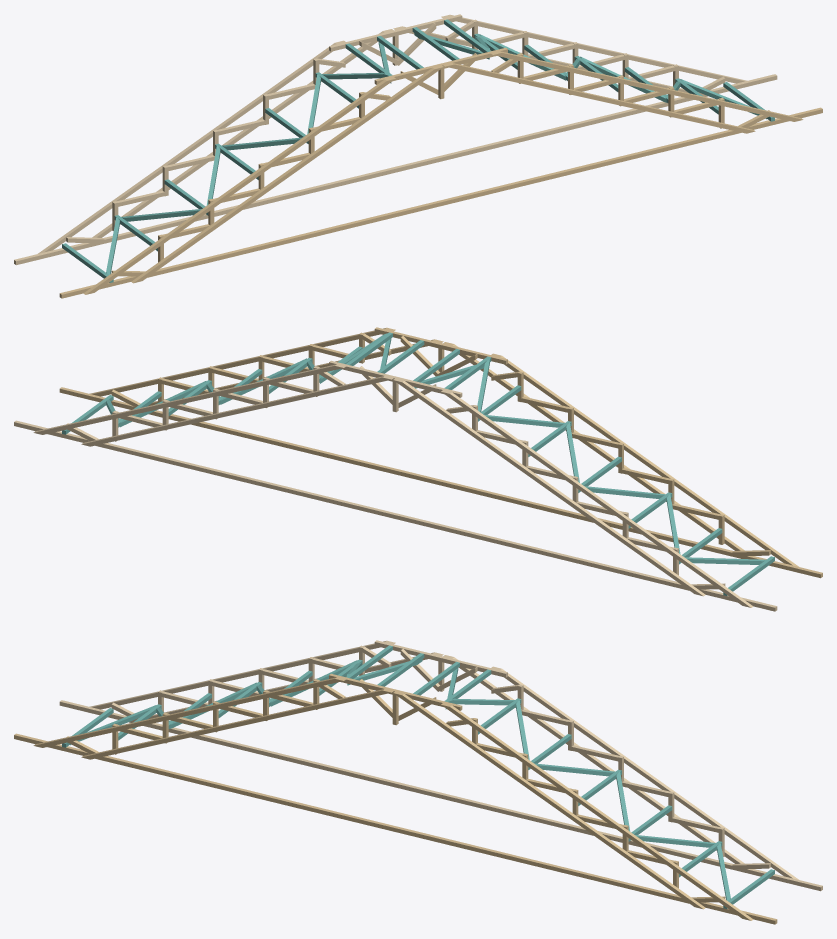
File: bridge-lattice-90mm-model.glb
3 views of the same model, one above another, from view 1: azimuth 30°, elevation 25°; view 2: azimuth 150°, elevation 25°; view 3: azimuth 330°, elevation 25° (orthographic).
Parts seen in each view (by area): view 1: N_A, P_A, N_CL1, N_CL2, P_CL1, N_CR1, N_CR2, P_CR1, P_CL2, P_B, N_B; view 2: P_A, N_A, P_CL1, P_CL2, N_CL1, P_CR1, P_CR2, N_CR1, N_CL2, N_B, P_B; view 3: N_A, P_A, N_CR1, N_CR2, P_CR1, N_CL1, N_CL2, P_CL1, P_CR2, P_B, N_B.
Boxes of the visible parts, x1,y1,x2,y2 form: N_A: [59, 107, 822, 298]; P_A: [14, 74, 777, 265]; N_CL1: [83, 77, 395, 294]; N_CL2: [131, 65, 443, 283]; P_CL1: [38, 40, 345, 253]; N_CR1: [491, 51, 803, 121]; N_CR2: [443, 63, 755, 133]; P_CR1: [441, 14, 747, 83]; P_CL2: [92, 29, 393, 237]; P_B: [329, 14, 462, 51]; N_B: [374, 47, 507, 84]; P_A: [14, 420, 777, 611]; N_A: [59, 387, 822, 578]; P_CL1: [441, 390, 753, 607]; P_CL2: [393, 378, 705, 596]; N_CL1: [491, 353, 798, 566]; P_CR1: [33, 364, 345, 434]; P_CR2: [81, 376, 393, 446]; N_CR1: [89, 327, 395, 396]; N_CL2: [443, 342, 744, 550]; N_B: [374, 327, 507, 364]; P_B: [329, 360, 462, 397]; N_A: [14, 733, 777, 924]; P_A: [59, 700, 822, 891]; N_CR1: [441, 703, 753, 920]; N_CR2: [393, 691, 705, 909]; P_CR1: [491, 666, 798, 879]; N_CL1: [33, 677, 345, 747]; N_CL2: [81, 689, 393, 759]; P_CL1: [89, 640, 395, 709]; P_CR2: [443, 655, 744, 863]; P_B: [374, 640, 507, 677]; N_B: [329, 673, 462, 710].
Size of the model in its own units: 0.51 by 0.09 by 0.0605.
